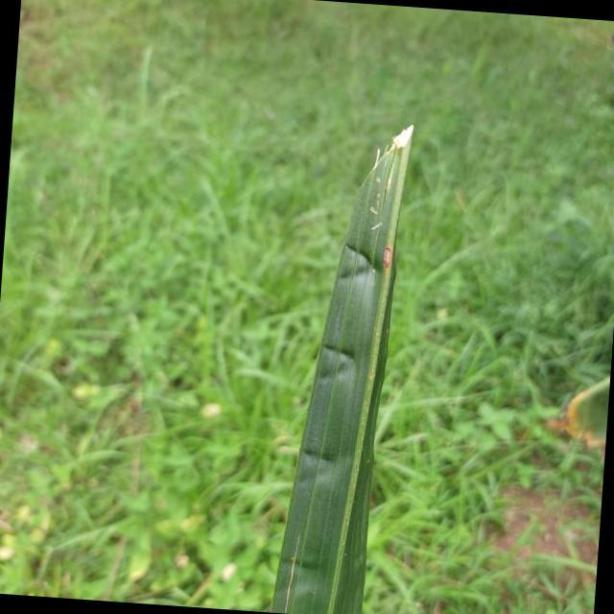Boron: (270, 123, 416, 614)
